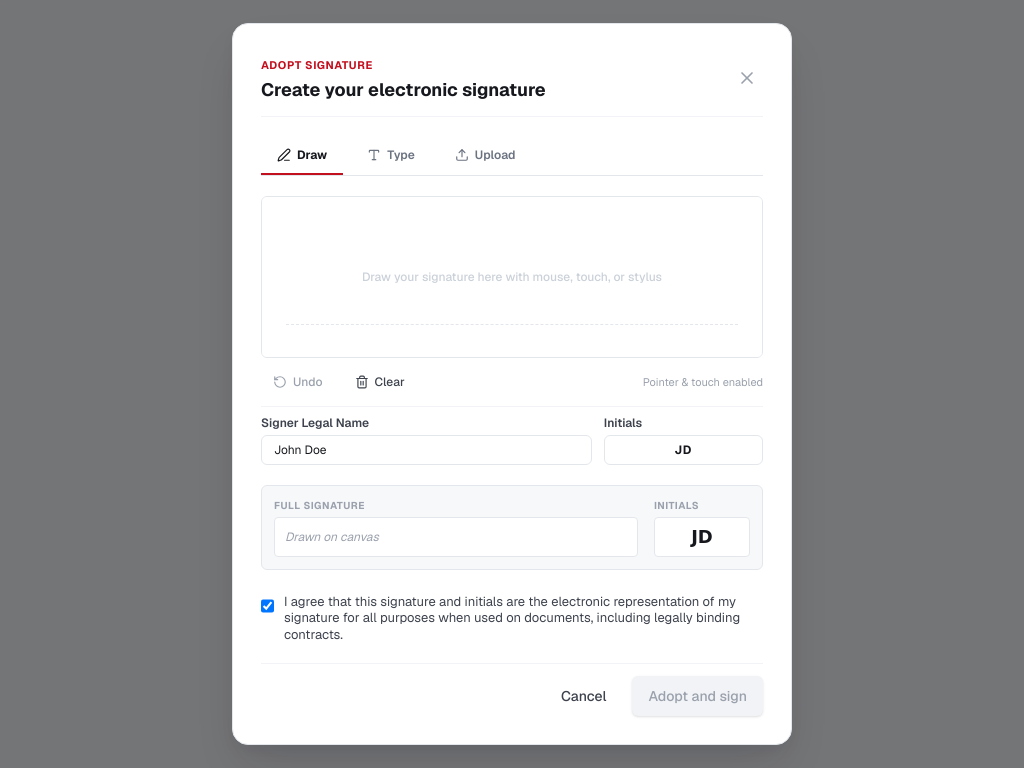
Scenario: SignatureModal Component Tests (INK-100, INK-101, INK-102) › switches between Draw, Type, and Upload tabs
The image size is (1024, 768).
Expected: the drawing with test id "signature-canvas" is shown, [262,197,762,357]
// Switch to Type Tab
Click the button with test id "tab-type-signature": (391, 156) [351,137,431,175]
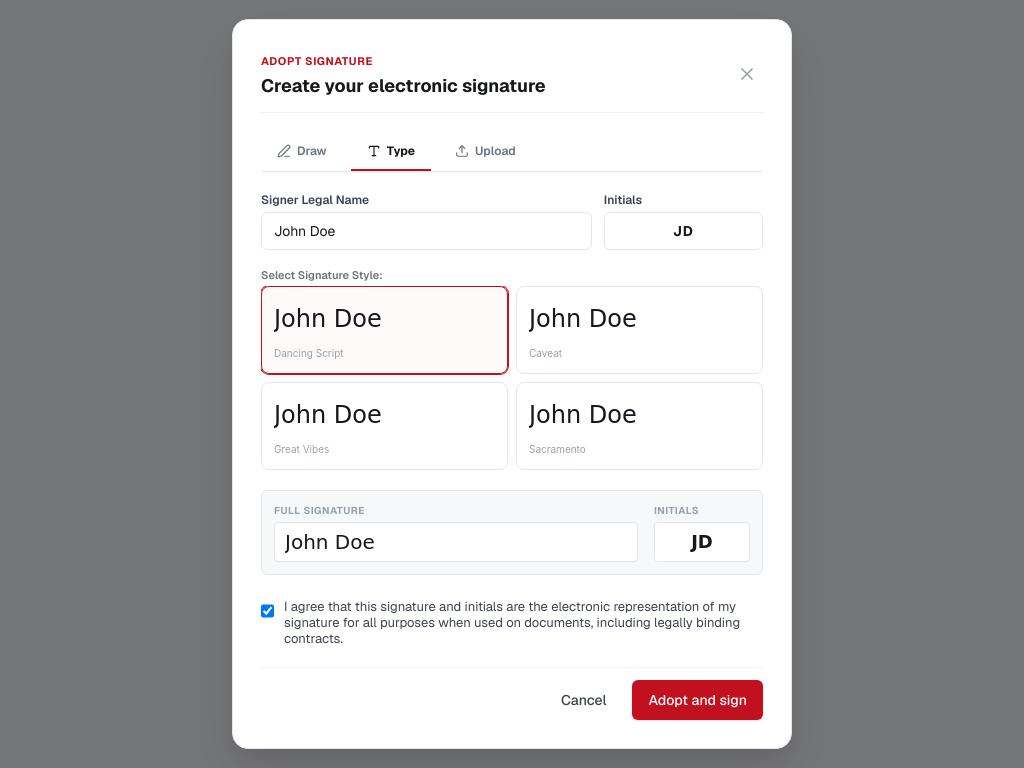
Now the field with test id "typed-signature-input" is shown, box [261,212,592,250]
Now the text "Dancing Script" is shown, box [274,346,344,361]
// Switch to Upload Tab
Click the button with test id "tab-upload-signature": (485, 152) [439,133,532,171]
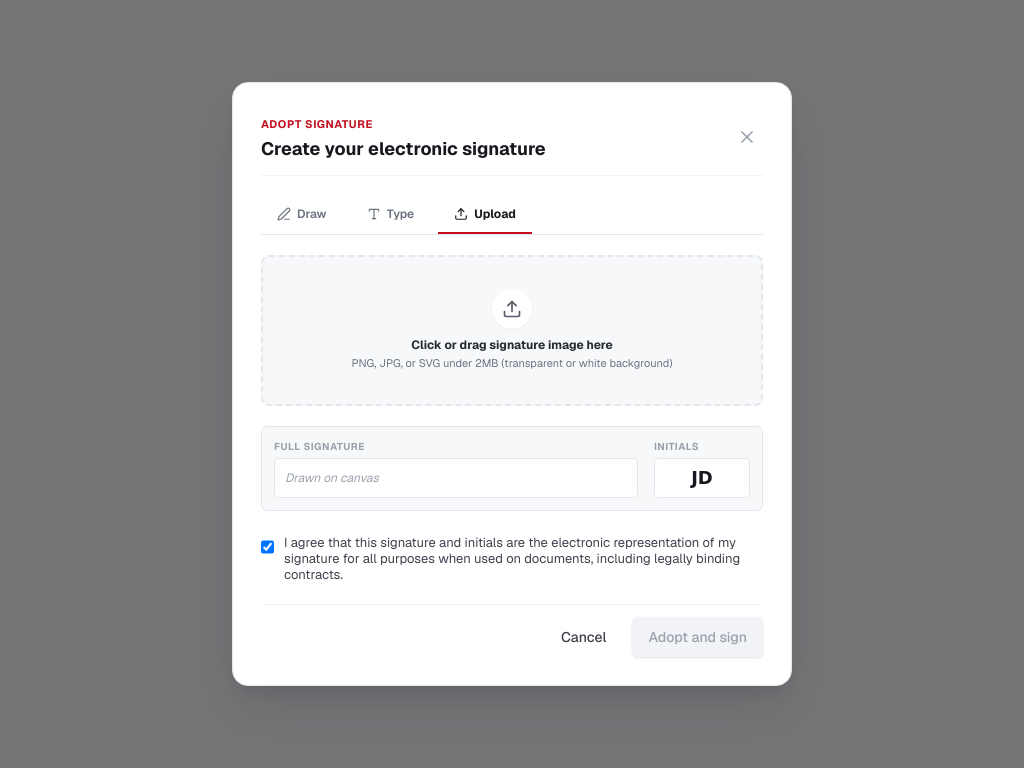
Now the element with test id "signature-dropzone" is shown, box [261,255,763,406]
